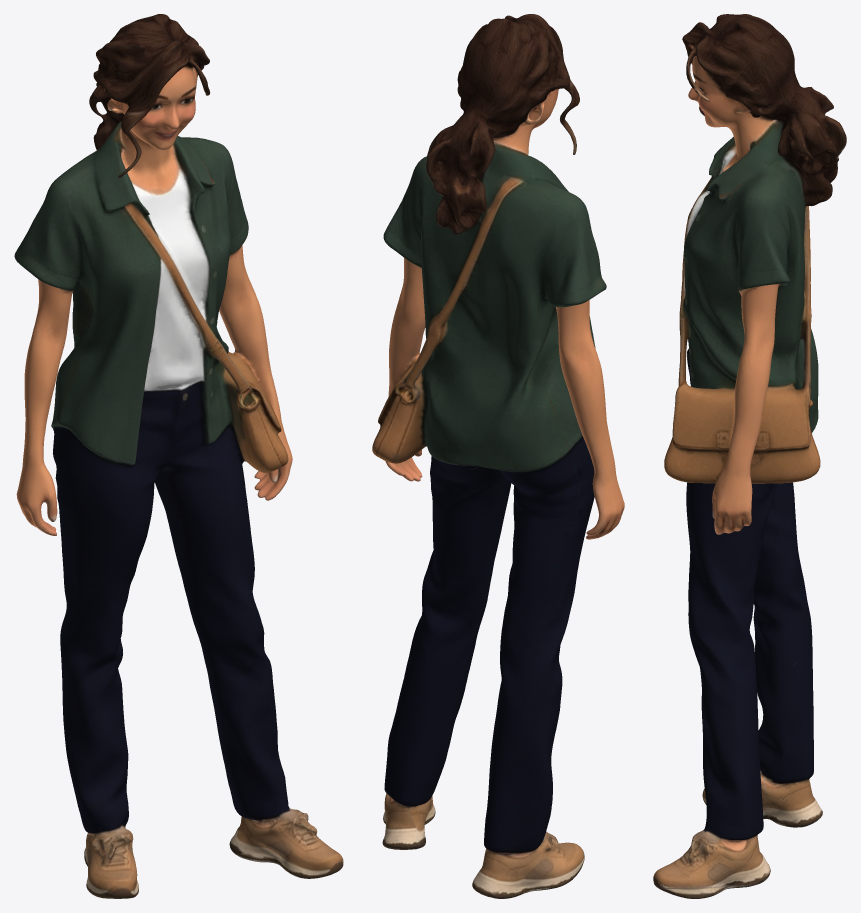
Rendered from guide_base.glb.
3 renders of one model, left to right at view 1: azimuth 30°, elevation 25°; view 2: azimuth 150°, elevation 25°; view 3: azimuth 270°, elevation 25°, orthographic. The views are drawn at different scales.
Size of the model in its own units: 0.6288 by 1.9 by 0.4084.
Materials: 1 (1 with a texture image).
